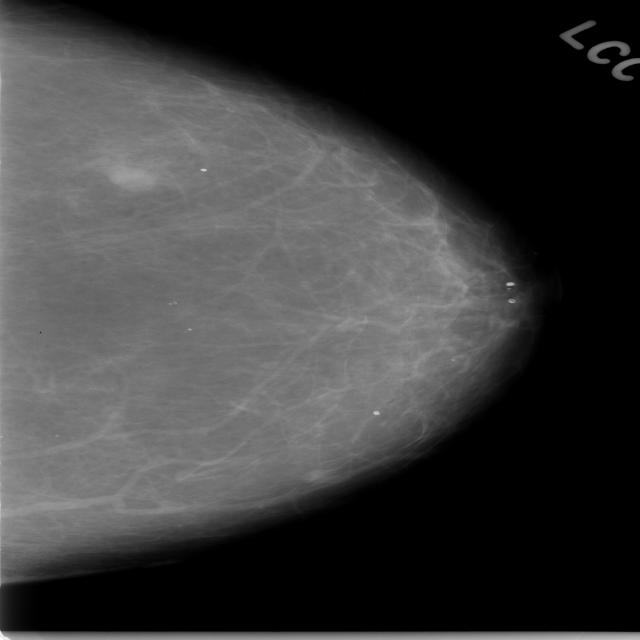cancer: (112, 145, 260, 247), (374, 187, 492, 296), (267, 459, 376, 506)
